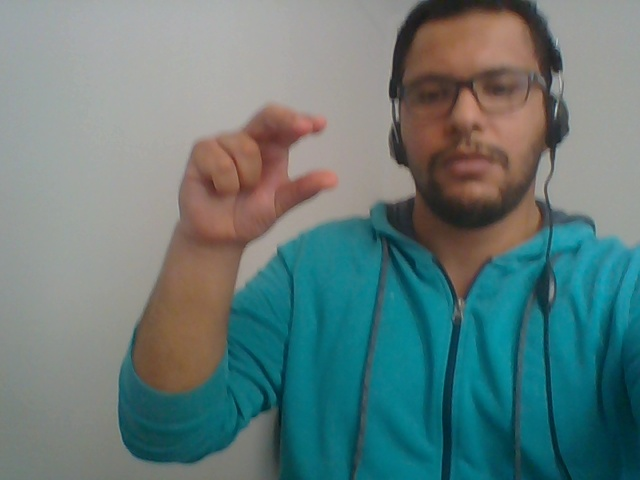no: (136, 86, 349, 243)
